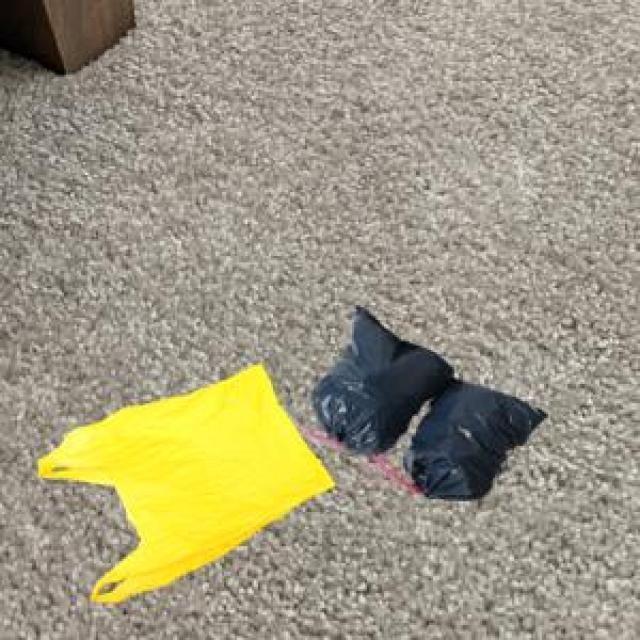miscellaneous trash: (294, 303, 544, 497)
